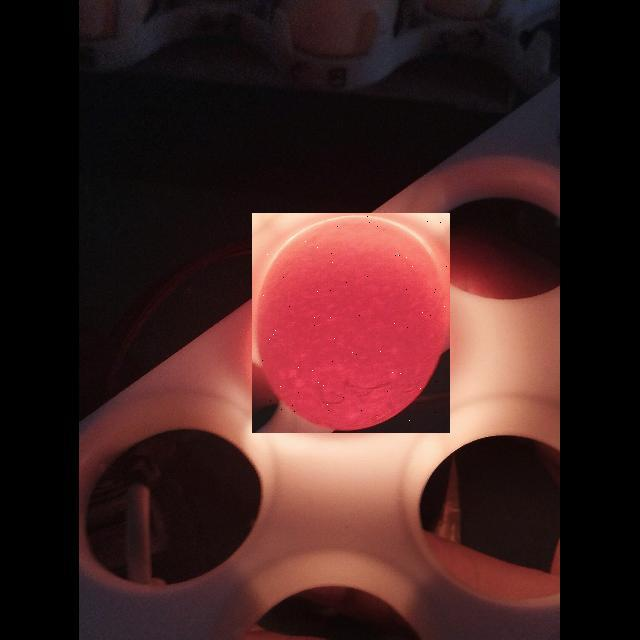Infertile: (252, 213, 450, 433)
